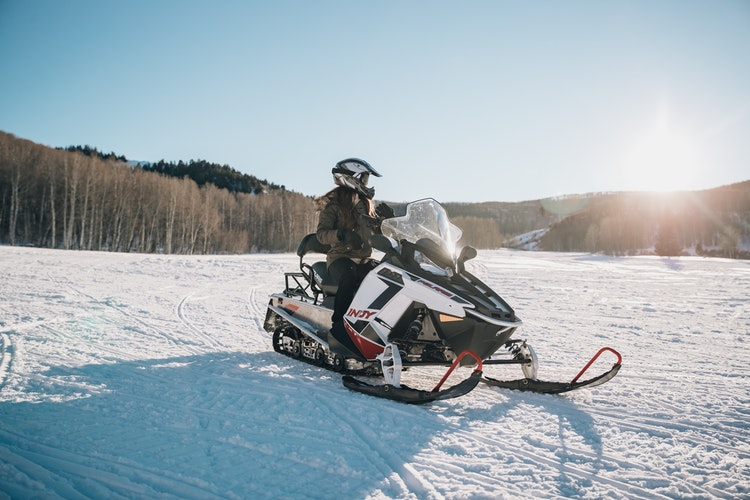helmet: (329, 161, 384, 197)
